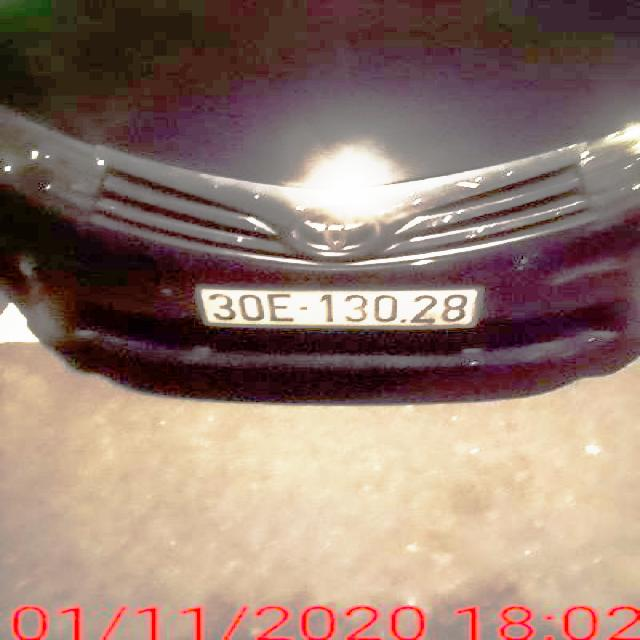license_plate: (200, 291, 477, 327)
